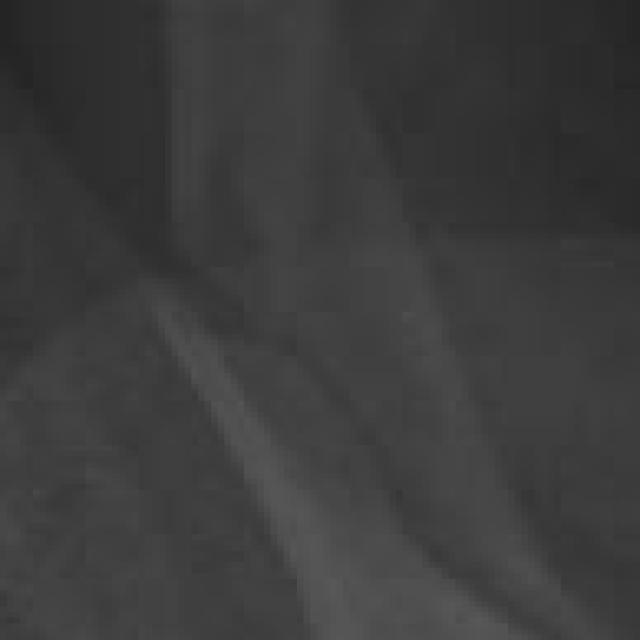fracture: (8, 1, 640, 640)
